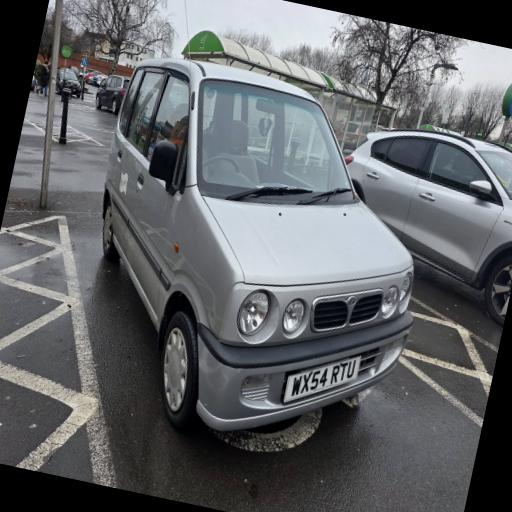numberplates: (284, 356, 360, 402)
